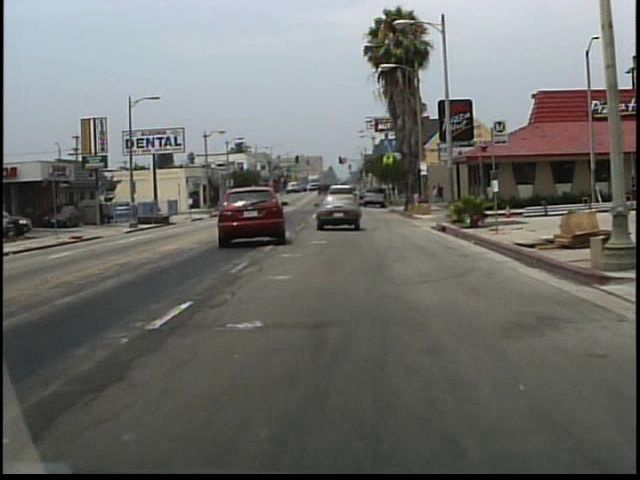person: (438, 182, 446, 202), (430, 183, 437, 204)
